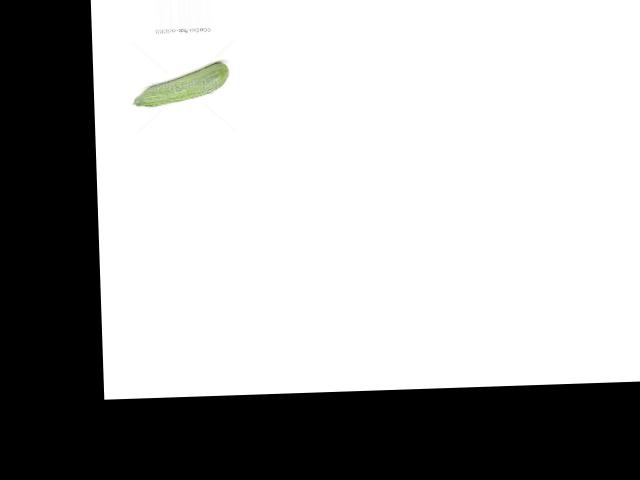cucumber: (130, 61, 228, 107)
